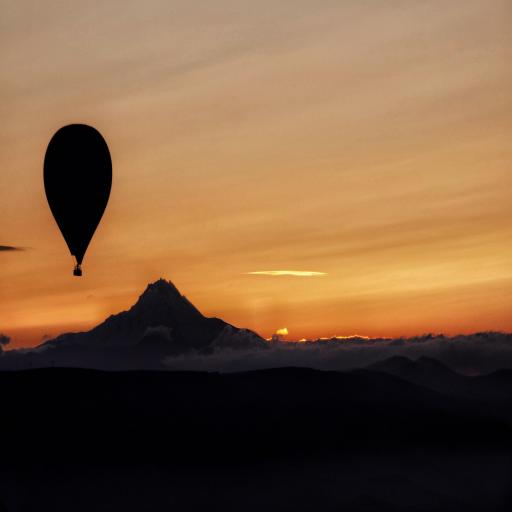hot air ballon: (44, 124, 113, 276)
